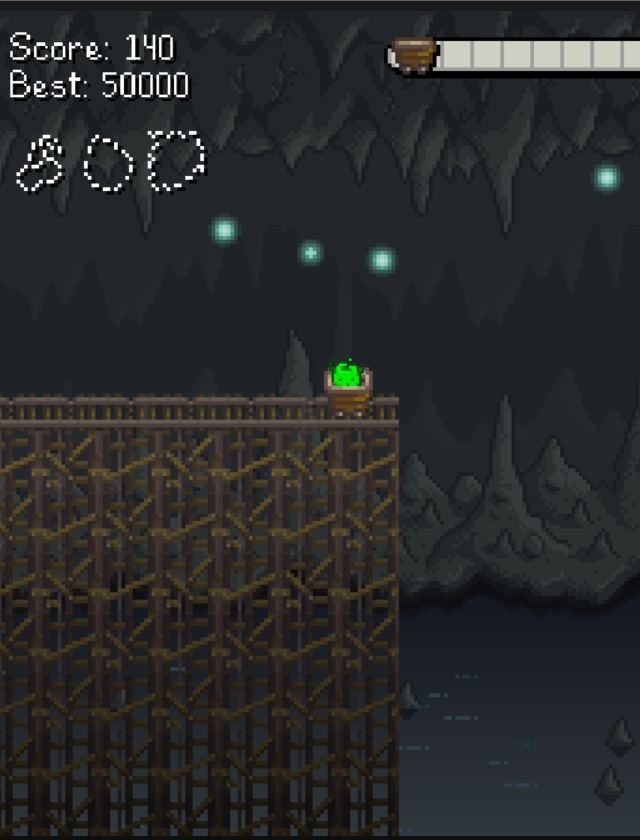minecart: (325, 359, 371, 416)
tracks: (0, 385, 315, 441)
